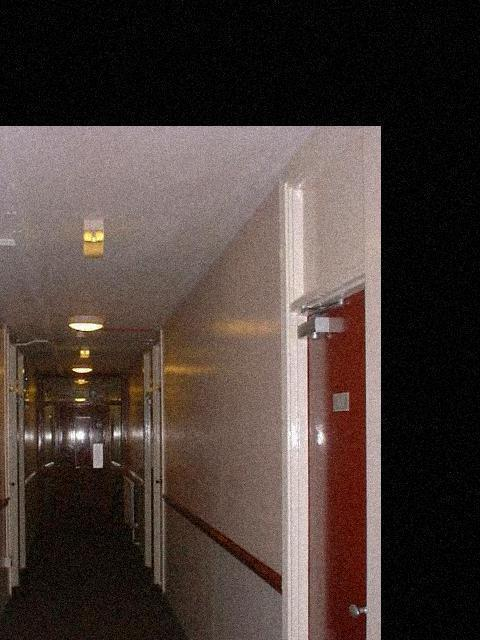Puerta: (294, 305, 370, 640)
